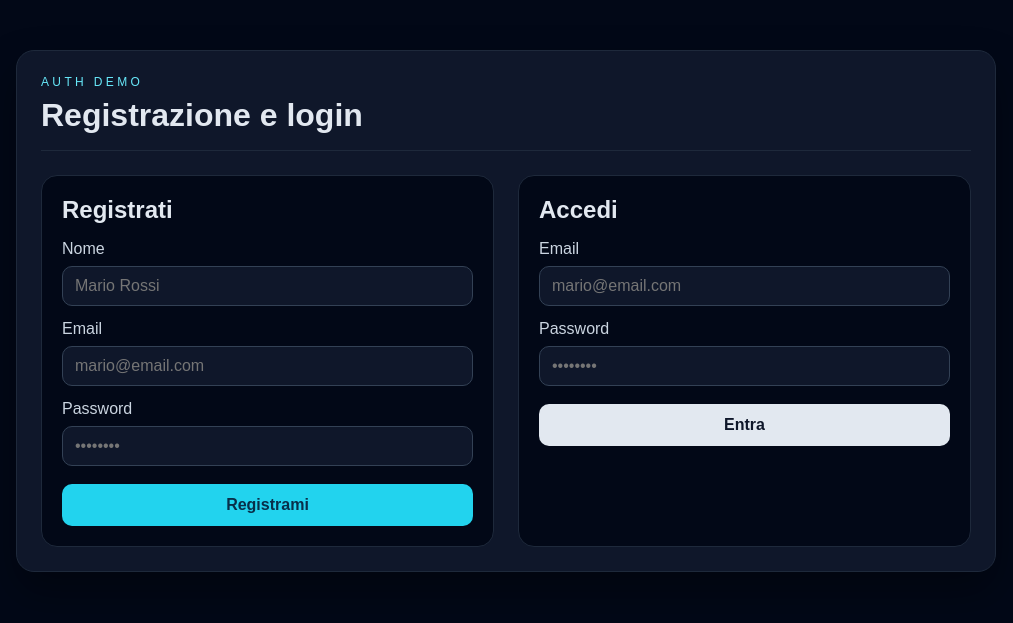
Test: SimpleUserAuth form reset › mantiene i valori quando la scrittura fallisce
This screenshot has width=1013, height=623.
Type "Luca" into the field with placeholder "Mario Rossi".
click(268, 286); type("Luca")  # box [62,266,473,306]
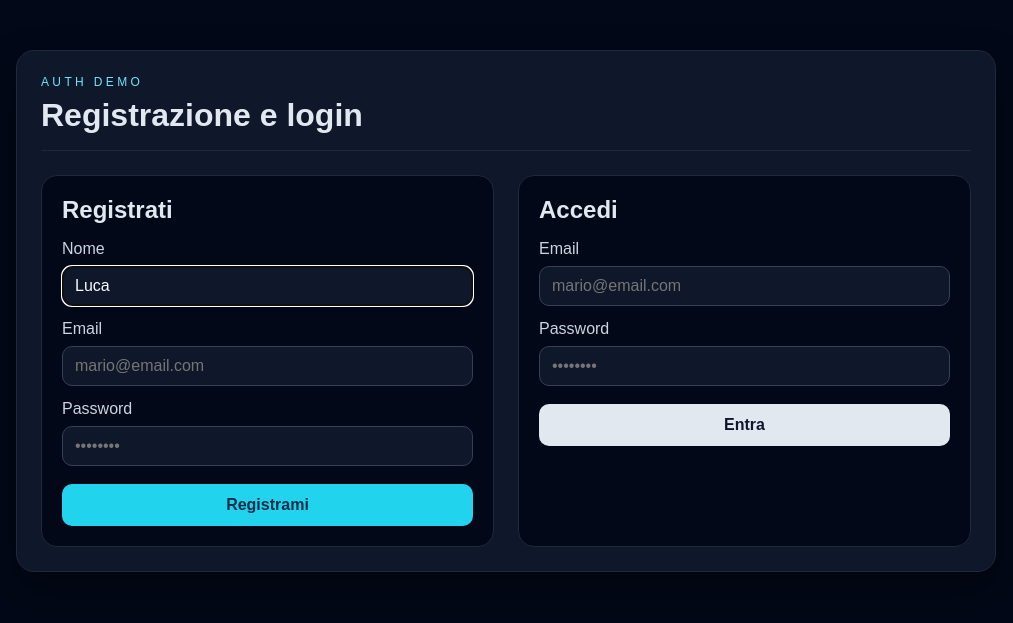
Type "luca@email.com" into the field with placeholder "mario@email.com" below "Nome".
click(268, 366); type("luca@email.com")  # box [62,346,473,386]
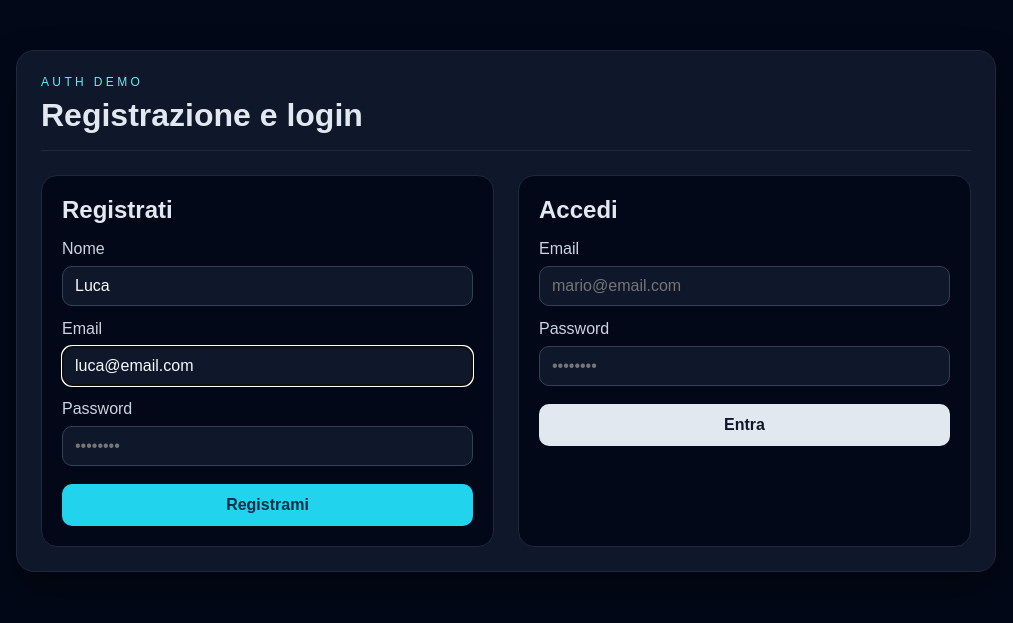
Type "Secret123!" into the password field with placeholder "••••••••" below "Nome".
click(268, 446); type("Secret123!")  # box [62,426,473,466]
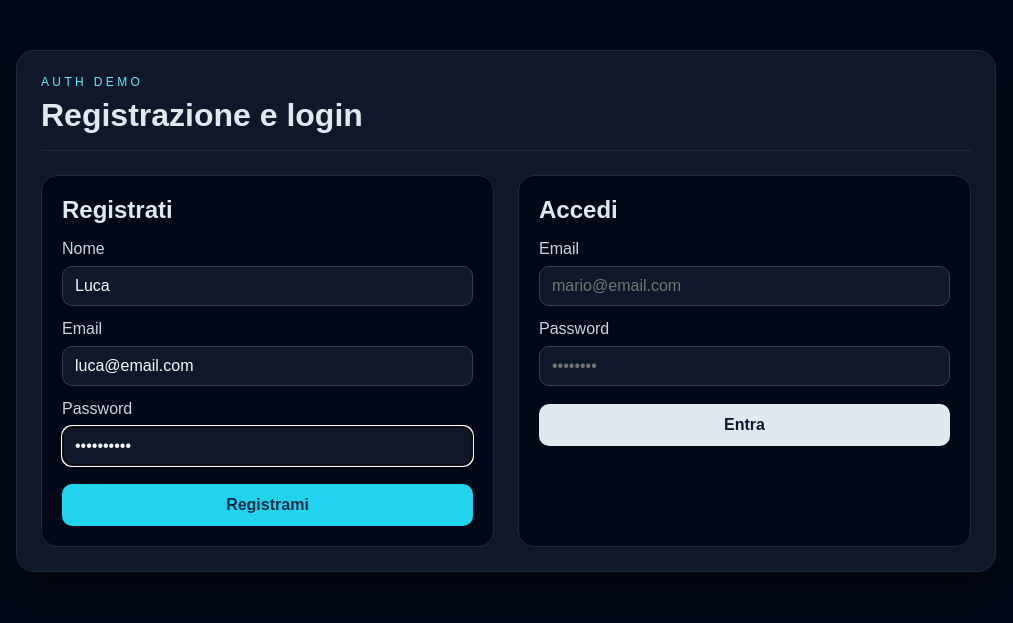
Click the button "Registrami".
click(268, 505)  # box [62,484,473,526]
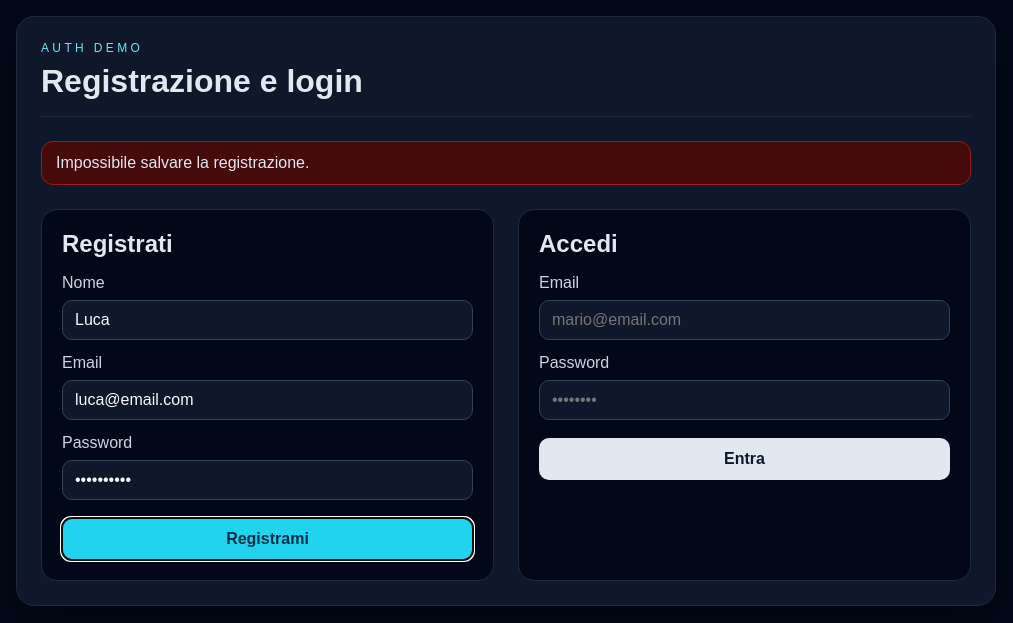
Now the text "Impossibile salvare la registrazione." is shown, box [41,141,971,185]
